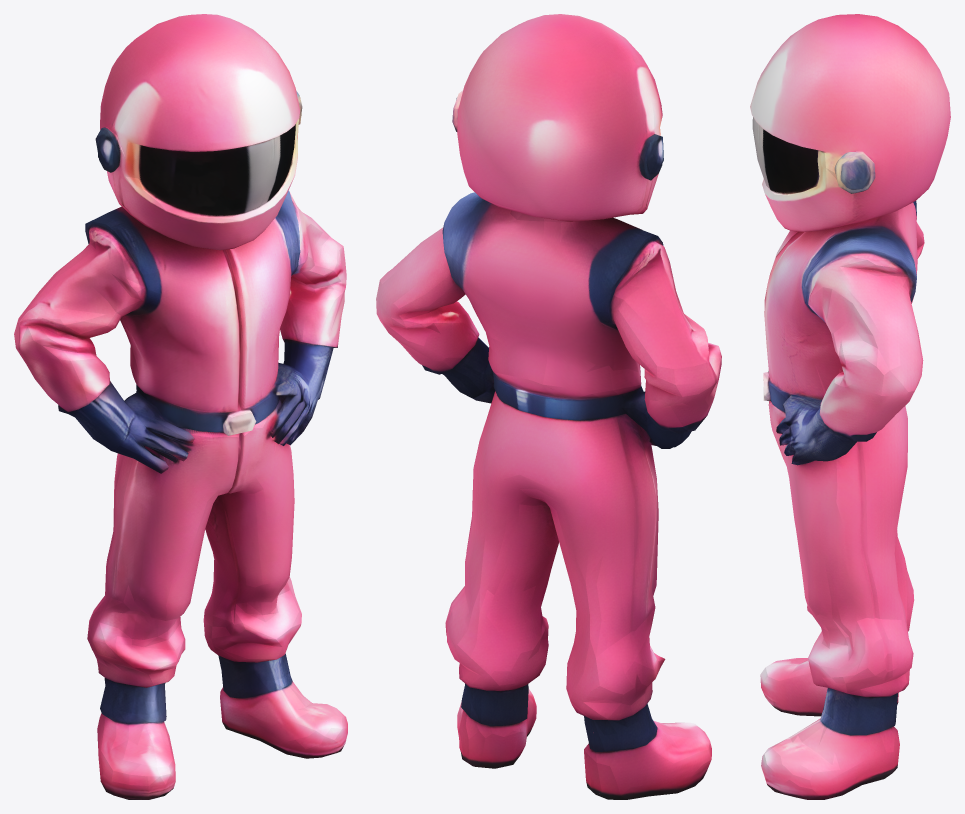
The picture shows the model from 3 angles, left to right: view 1: azimuth 30°, elevation 25°; view 2: azimuth 150°, elevation 25°; view 3: azimuth 270°, elevation 25°; orthographic projection. The views are drawn at different scales.
Visible parts, largest first — view 1: model; view 2: model; view 3: model.
Part boxes in pixels (bbox=[...]): model: bbox=[14, 14, 347, 799]; model: bbox=[376, 14, 721, 799]; model: bbox=[750, 14, 950, 799].
Size of the model in its own units: 0.887 by 1.9 by 0.4773.
1 material, 1 textured.
